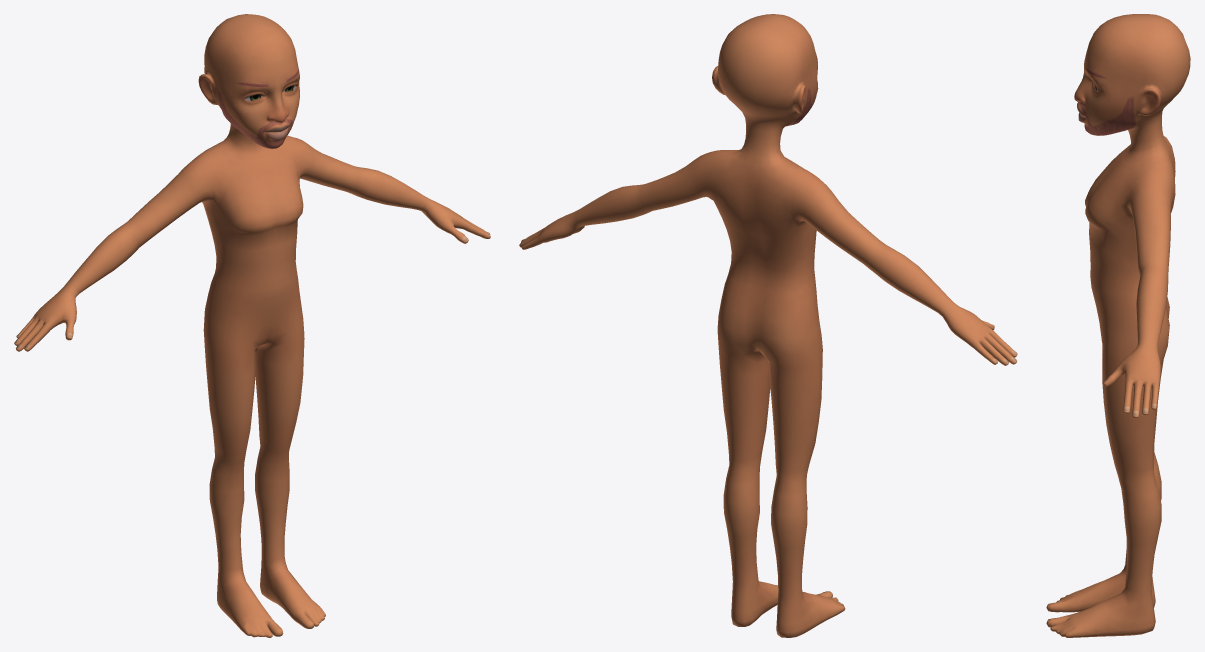
File: frame_0062.glb
The picture shows the model from 3 angles, left to right: view 1: azimuth 30°, elevation 25°; view 2: azimuth 150°, elevation 25°; view 3: azimuth 270°, elevation 25°; orthographic projection. The views are drawn at different scales.
Visible parts, largest first — view 1: frame_0062_head_geo; view 2: frame_0062_head_geo; view 3: frame_0062_head_geo.
Boxes of the visible parts, x1,y1,x2,y2 form: frame_0062_head_geo: [14, 14, 490, 637]; frame_0062_head_geo: [519, 14, 1017, 637]; frame_0062_head_geo: [1046, 14, 1190, 637].
Bounding box in the file's own units: 1.28 × 1.5 × 0.3253.
3 materials, 3 textured.
